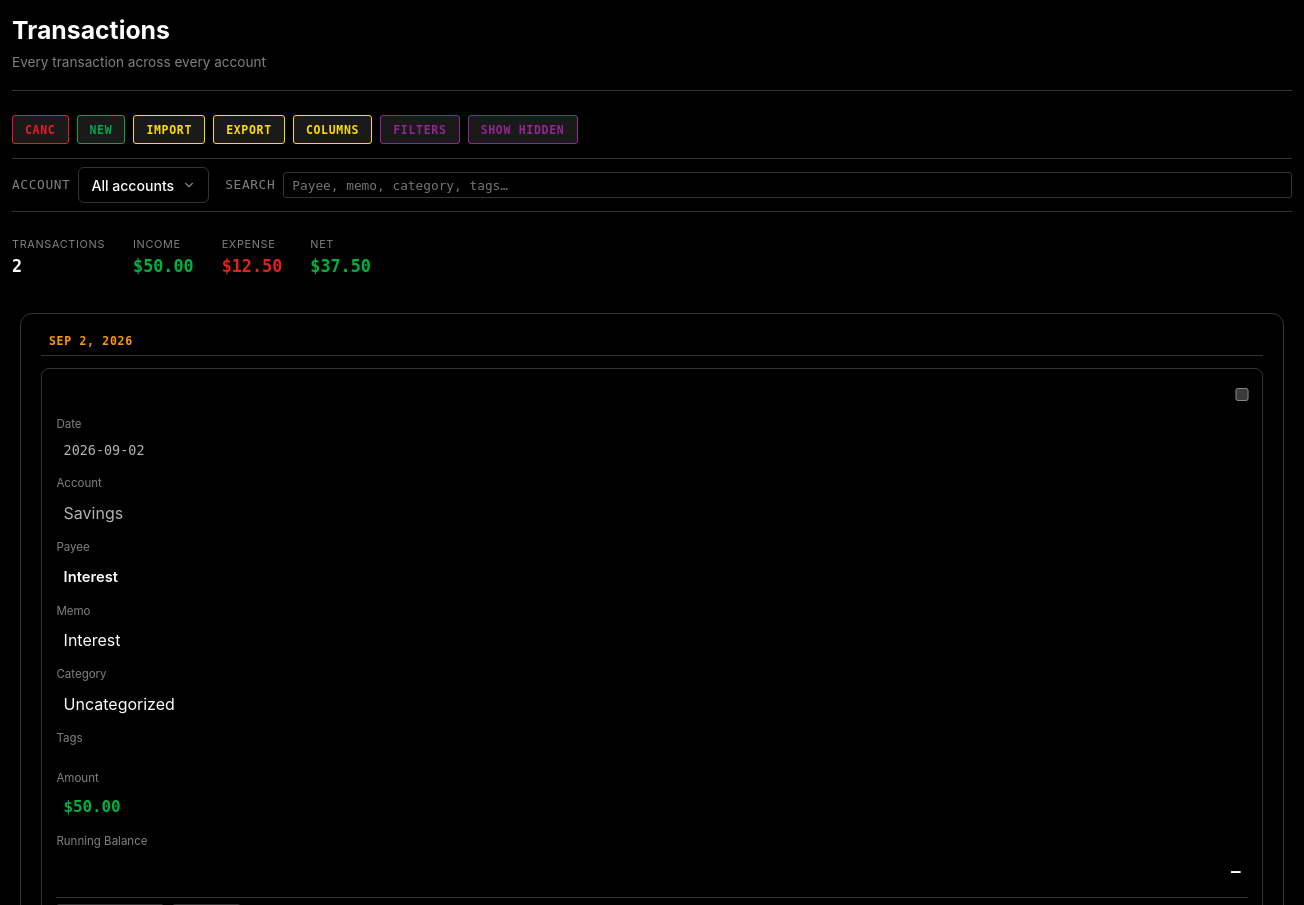
Test: AllTransactionsScreen › renders each Transaction as a stacked card at Mobile tier, with the Account filter still working
Check: the text "Coffee shop" is not shown
Select "Checking" in the dropdown named "Filter by account" at [111, 185], box [12, 167, 209, 203]
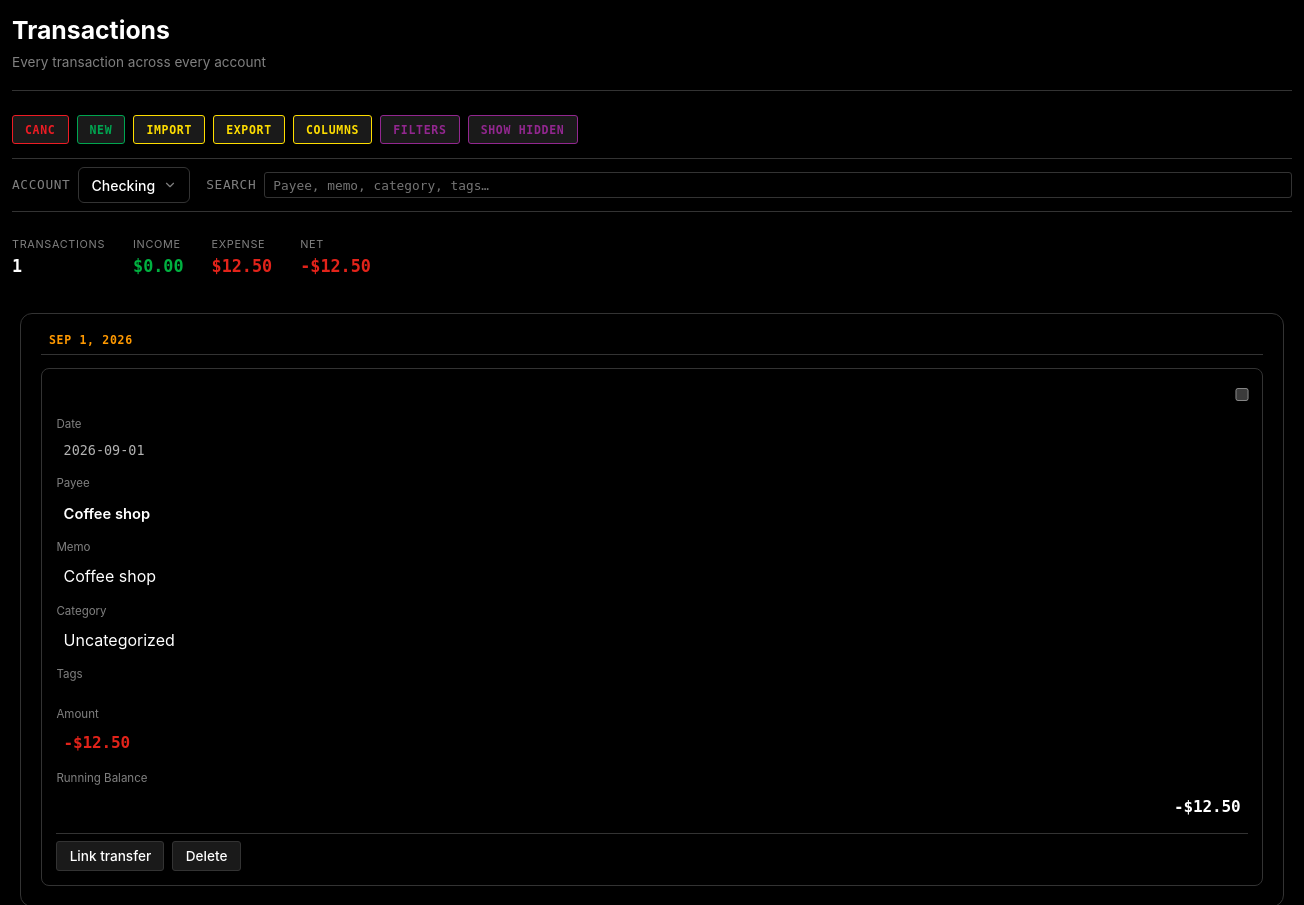
Check: the text "Coffee shop" below "Memo" is shown, box [64, 566, 156, 586]
Check: the text "Interest" is gone
